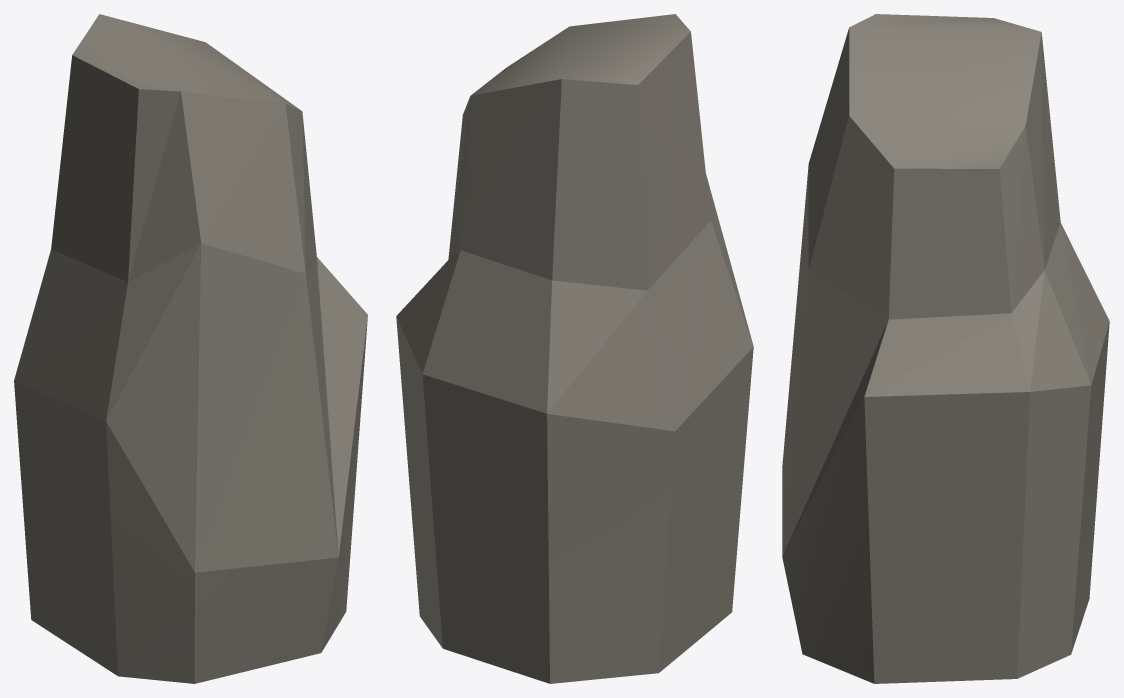
File: TB_D_Env_RockA_A.FBX
The picture shows the model from 3 angles, left to right: view 1: azimuth 30°, elevation 25°; view 2: azimuth 150°, elevation 25°; view 3: azimuth 270°, elevation 25°; orthographic projection.
Visible parts, largest first — view 1: TB_D_Env_RockA_A; view 2: TB_D_Env_RockA_A; view 3: TB_D_Env_RockA_A.
Part boxes in pixels (bbox=[...]): TB_D_Env_RockA_A: bbox=[14, 14, 367, 683]; TB_D_Env_RockA_A: bbox=[396, 14, 753, 683]; TB_D_Env_RockA_A: bbox=[782, 14, 1109, 683].
Bounding box in the file's own units: 1.07 × 2.12 × 1.1.
